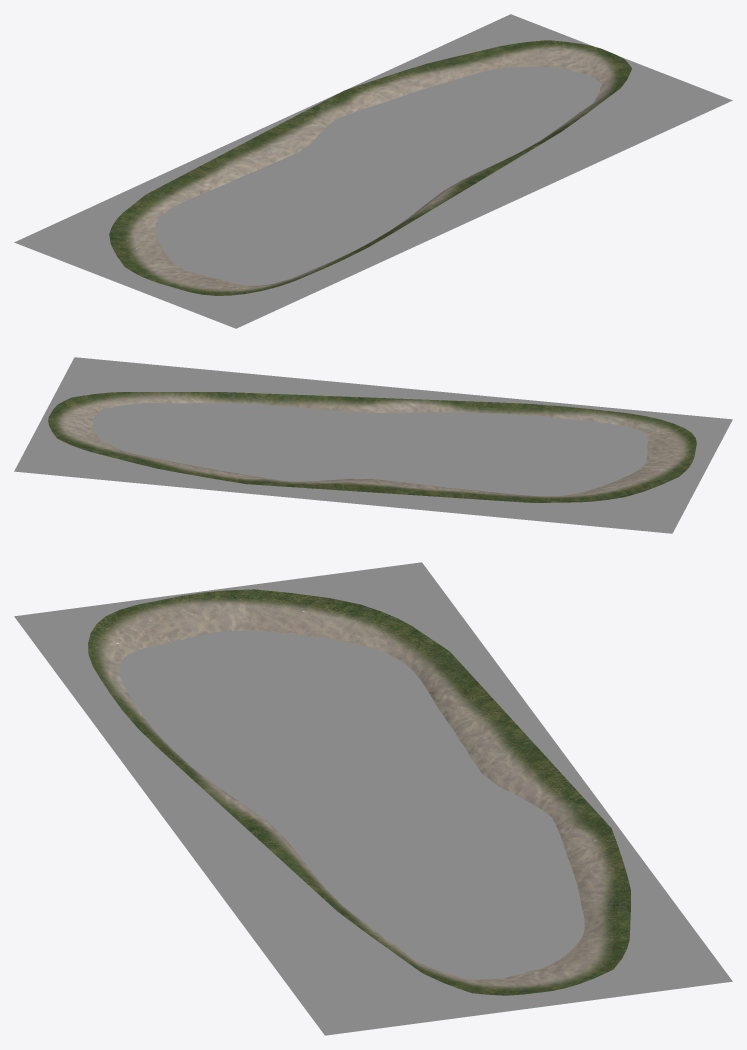
File: land.obj
3 views of the same model, one above another, from view 1: azimuth 30°, elevation 25°; view 2: azimuth 150°, elevation 25°; view 3: azimuth 270°, elevation 25° (orthographic). The views are drawn at different scales.
Parts seen in each view (by area): view 1: ozero, land_ozero; view 2: ozero, land_ozero; view 3: ozero, land_ozero.
Boxes of the visible parts, x1=… form: ozero: x1=14, y1=14, x2=732, y2=328; land_ozero: x1=109, y1=40, x2=631, y2=295; ozero: x1=14, y1=357, x2=732, y2=533; land_ozero: x1=48, y1=392, x2=696, y2=502; ozero: x1=14, y1=562, x2=732, y2=1035; land_ozero: x1=88, y1=589, x2=630, y2=995.
Size of what is drawn, in the model's own units: 37754 by 1298 by 24233.
